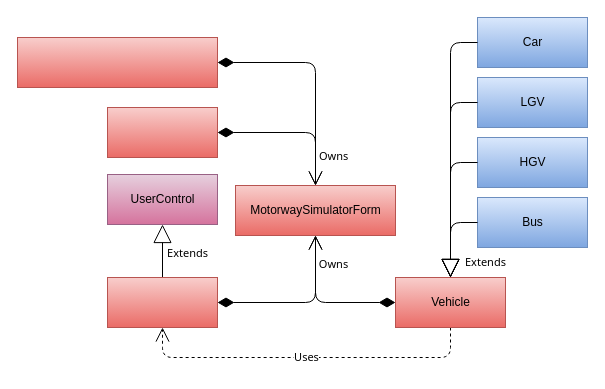
Image size: 605x389. Some labels were removed from this diagram. Each missing label, with the centre of its shape:
DebugVehicleSpawnInstruction: (117,62)
LaneControl: (162,302)
VehicleTemplate: (162,132)
